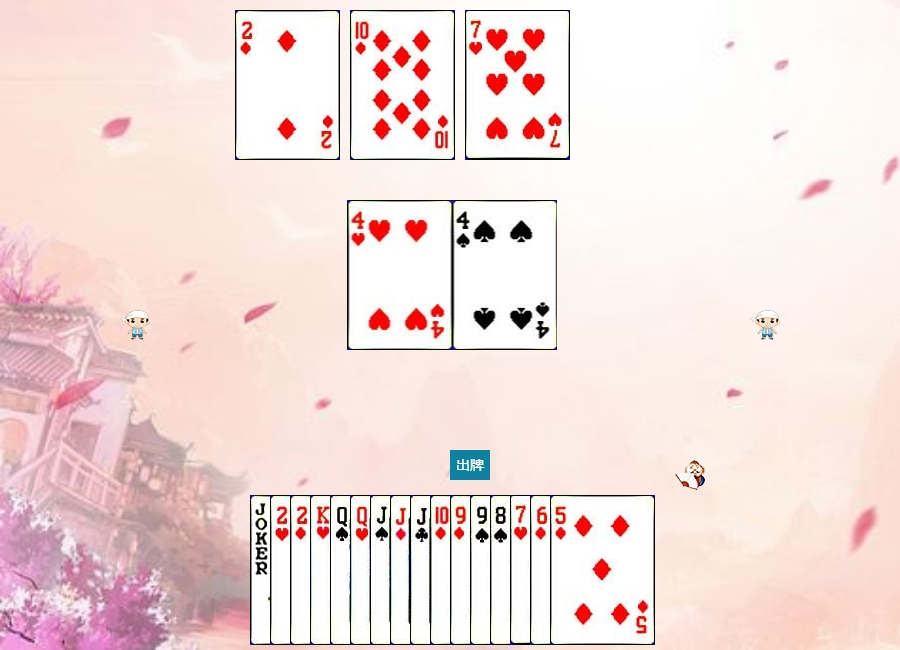10~1: (350, 10, 455, 160), (430, 495, 535, 645)
11~1: (390, 495, 495, 645)
11~2: (410, 495, 515, 645)
11~4: (370, 495, 475, 645)
12~3: (350, 495, 455, 645)
12~4: (330, 495, 435, 645)
13~3: (310, 495, 415, 645)
15~1: (235, 10, 340, 160), (290, 495, 395, 645)
15~3: (270, 495, 375, 645)
17~3: (250, 495, 355, 645)
4~3: (348, 200, 453, 350)
4~4: (453, 200, 558, 350)
5~1: (550, 495, 655, 645)
6~1: (530, 495, 635, 645)
7~3: (465, 10, 570, 160), (510, 495, 615, 645)
8~4: (490, 495, 595, 645)
9~1: (450, 495, 555, 645)
9~4: (470, 495, 575, 645)
